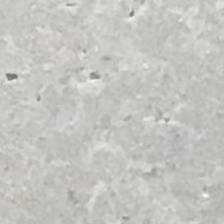Non_Crack: (24, 12, 203, 199)
